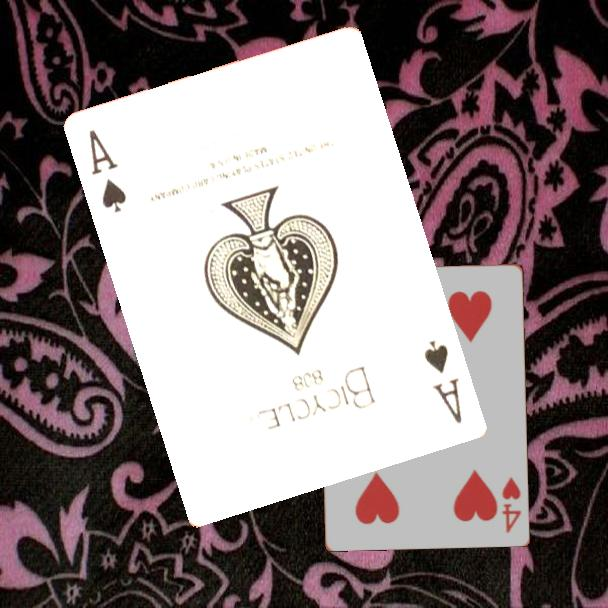h04: (498, 473, 523, 535)
s01: (421, 337, 466, 427), (86, 126, 130, 216)
